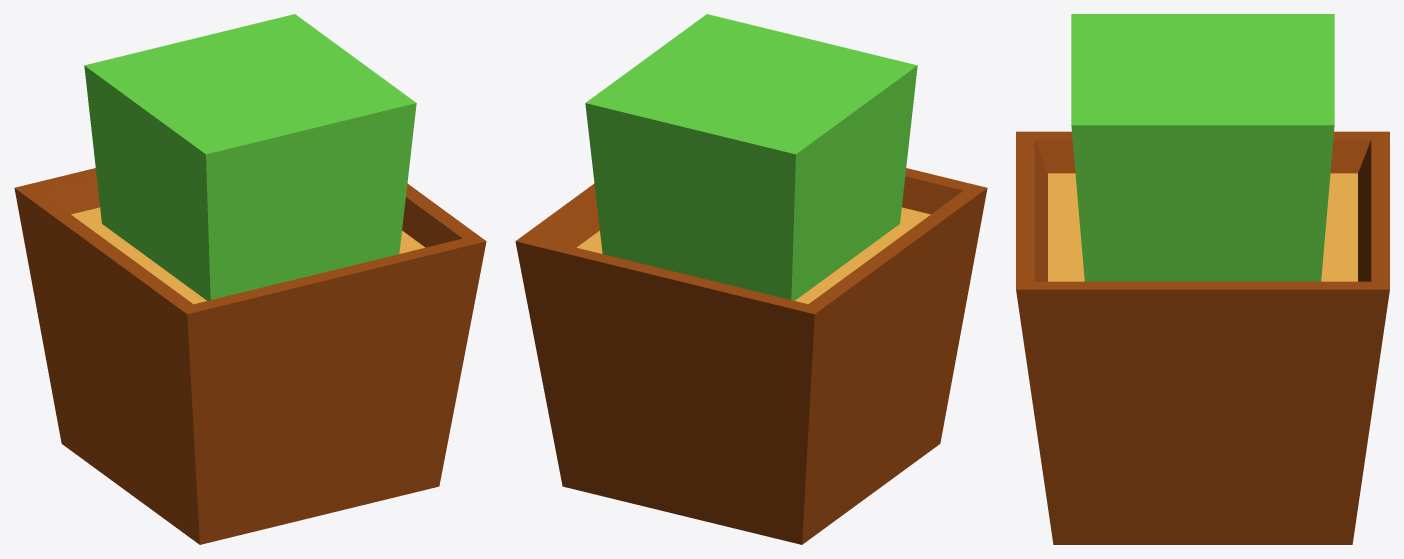
Rendered from Prop_Plant_02.fbx.
3 views of the same model, side by side, from view 1: azimuth 30°, elevation 25°; view 2: azimuth 150°, elevation 25°; view 3: azimuth 270°, elevation 25° (orthographic). The views are drawn at different scales.
Visible parts, largest first — view 1: Prop_Plant_02; view 2: Prop_Plant_02; view 3: Prop_Plant_02.
Part boxes in pixels (bbox=[...]): Prop_Plant_02: bbox=[14, 14, 486, 544]; Prop_Plant_02: bbox=[515, 14, 987, 544]; Prop_Plant_02: bbox=[1016, 14, 1389, 544].
Size of the model in its own units: 67.98 by 82.66 by 67.98.
